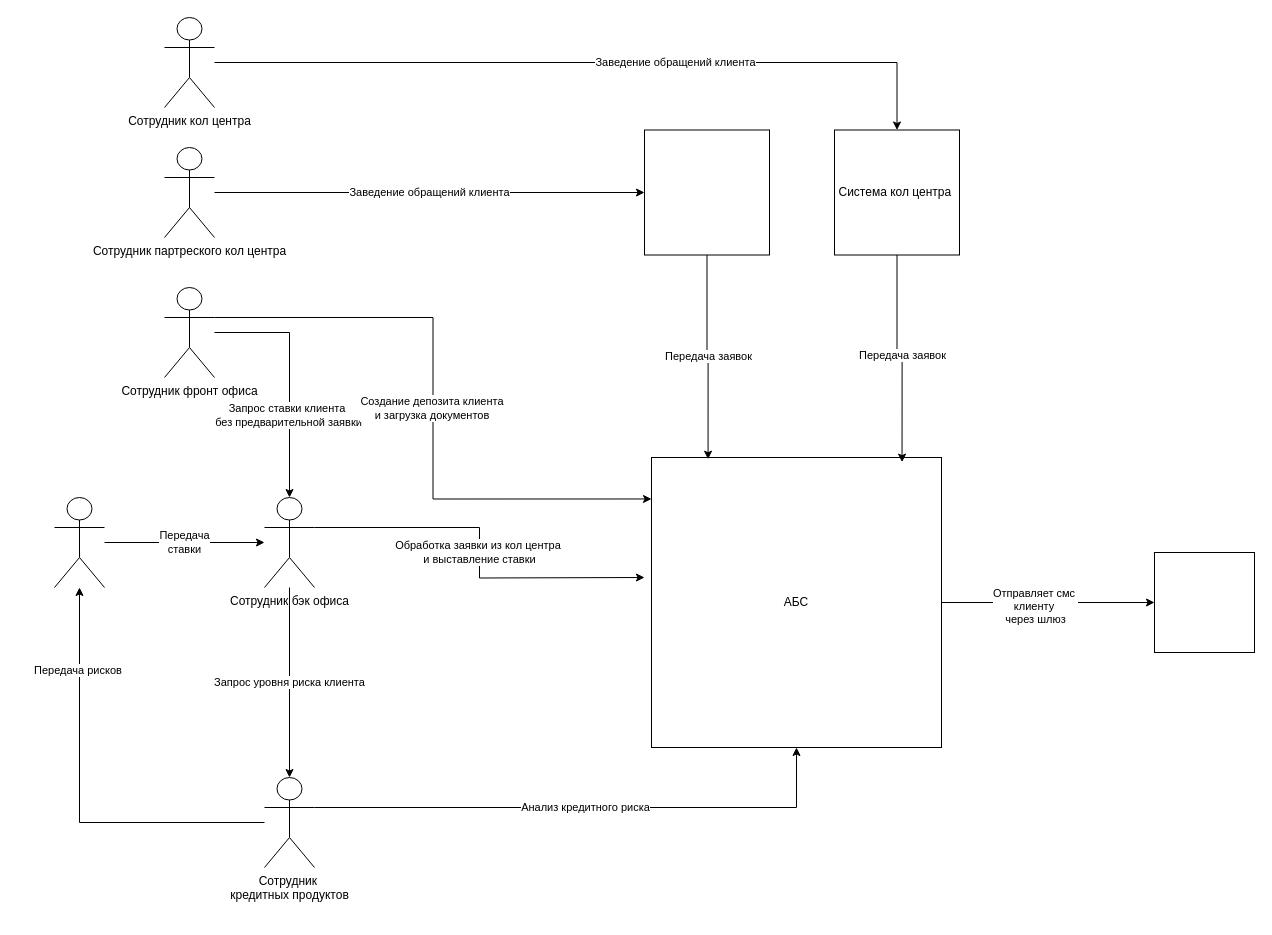
Some shapes in this 1272 by 935 pixel diagram are drawn without their labels. The centre of each missing label's shape, as x and y in pixels:
Система партнерского кол центра: (x=707, y=192)
Сотрудник депозитных продуктов: (x=79, y=542)
Телеком оператор: (x=1204, y=602)
